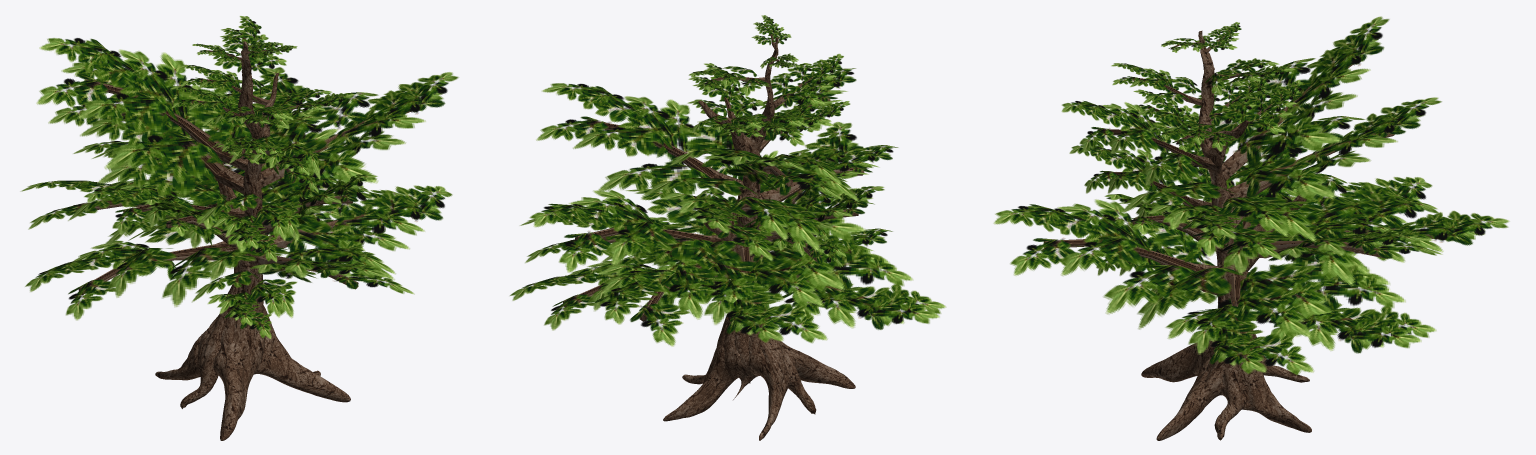
The model's file is tree2.glb.
3 renders of one model, left to right at view 1: azimuth 30°, elevation 25°; view 2: azimuth 150°, elevation 25°; view 3: azimuth 270°, elevation 25°, orthographic. The views are drawn at different scales.
Parts seen in each view (by area): view 1: pixel_art_large(1).012, Cube, pixel_art_large(1).004, pixel_art_large(1).018, pixel_art_large(1).019, pixel_art_large(1).013, pixel_art_large(1).014, pixel_art_large(1).023, pixel_art_large(1).007, pixel_art_large(1).008, pixel_art_large(1).021, pixel_art_large(1).015 (+13 smaller); view 2: pixel_art_large(1).004, Cube, pixel_art_large(1).001, pixel_art_large(1).015, pixel_art_large(1).021, pixel_art_large(1).018, pixel_art_large(1).013, pixel_art_large(1).012, pixel_art_large(1).020, pixel_art_large(1).014, pixel_art_large(1).007, pixel_art_large(1).002 (+12 smaller); view 3: pixel_art_large(1).019, pixel_art_large(1).014, Cube, pixel_art_large(1).012, pixel_art_large(1).020, pixel_art_large(1).013, pixel_art_large(1).001, pixel_art_large(1).004, pixel_art_large(1).022, pixel_art_large(1).021, pixel_art_large(1).015, pixel_art_large(1).007 (+11 smaller).
Boxes of the visible parts, x1=… form: pixel_art_large(1).012: x1=36, y1=38, x2=250, y2=183; Cube: x1=155, y1=41, x2=350, y2=440; pixel_art_large(1).004: x1=257, y1=72, x2=458, y2=188; pixel_art_large(1).018: x1=25, y1=224, x2=238, y2=320; pixel_art_large(1).019: x1=260, y1=180, x2=452, y2=280; pixel_art_large(1).013: x1=48, y1=63, x2=255, y2=197; pixel_art_large(1).014: x1=201, y1=244, x2=414, y2=294; pixel_art_large(1).023: x1=192, y1=270, x2=297, y2=339; pixel_art_large(1).007: x1=197, y1=193, x2=301, y2=262; pixel_art_large(1).008: x1=84, y1=181, x2=244, y2=248; pixel_art_large(1).021: x1=177, y1=67, x2=347, y2=205; pixel_art_large(1).015: x1=20, y1=180, x2=243, y2=246; pixel_art_large(1).004: x1=536, y1=83, x2=746, y2=196; Cube: x1=663, y1=37, x2=855, y2=440; pixel_art_large(1).001: x1=594, y1=238, x2=773, y2=346; pixel_art_large(1).015: x1=658, y1=233, x2=845, y2=343; pixel_art_large(1).021: x1=529, y1=188, x2=727, y2=295; pixel_art_large(1).018: x1=728, y1=230, x2=946, y2=329; pixel_art_large(1).013: x1=642, y1=177, x2=826, y2=261; pixel_art_large(1).012: x1=669, y1=148, x2=859, y2=201; pixel_art_large(1).020: x1=510, y1=257, x2=729, y2=330; pixel_art_large(1).014: x1=691, y1=122, x2=865, y2=256; pixel_art_large(1).007: x1=759, y1=145, x2=898, y2=201; pixel_art_large(1).002: x1=770, y1=53, x2=843, y2=107; pixel_art_large(1).019: x1=1137, y1=262, x2=1334, y2=375; pixel_art_large(1).014: x1=993, y1=199, x2=1221, y2=314; Cube: x1=1141, y1=30, x2=1311, y2=440; pixel_art_large(1).012: x1=1211, y1=16, x2=1389, y2=181; pixel_art_large(1).020: x1=1216, y1=255, x2=1436, y2=353; pixel_art_large(1).013: x1=1227, y1=97, x2=1441, y2=201; pixel_art_large(1).001: x1=1263, y1=192, x2=1509, y2=286; pixel_art_large(1).004: x1=1121, y1=181, x2=1316, y2=260; pixel_art_large(1).022: x1=1061, y1=101, x2=1219, y2=186; pixel_art_large(1).021: x1=1218, y1=217, x2=1442, y2=274; pixel_art_large(1).015: x1=1234, y1=173, x2=1432, y2=275; pixel_art_large(1).007: x1=1069, y1=145, x2=1212, y2=216.
Bounding box in the file's own units: 17.01 × 13.6 × 17.83.
216 materials, 216 textured.
